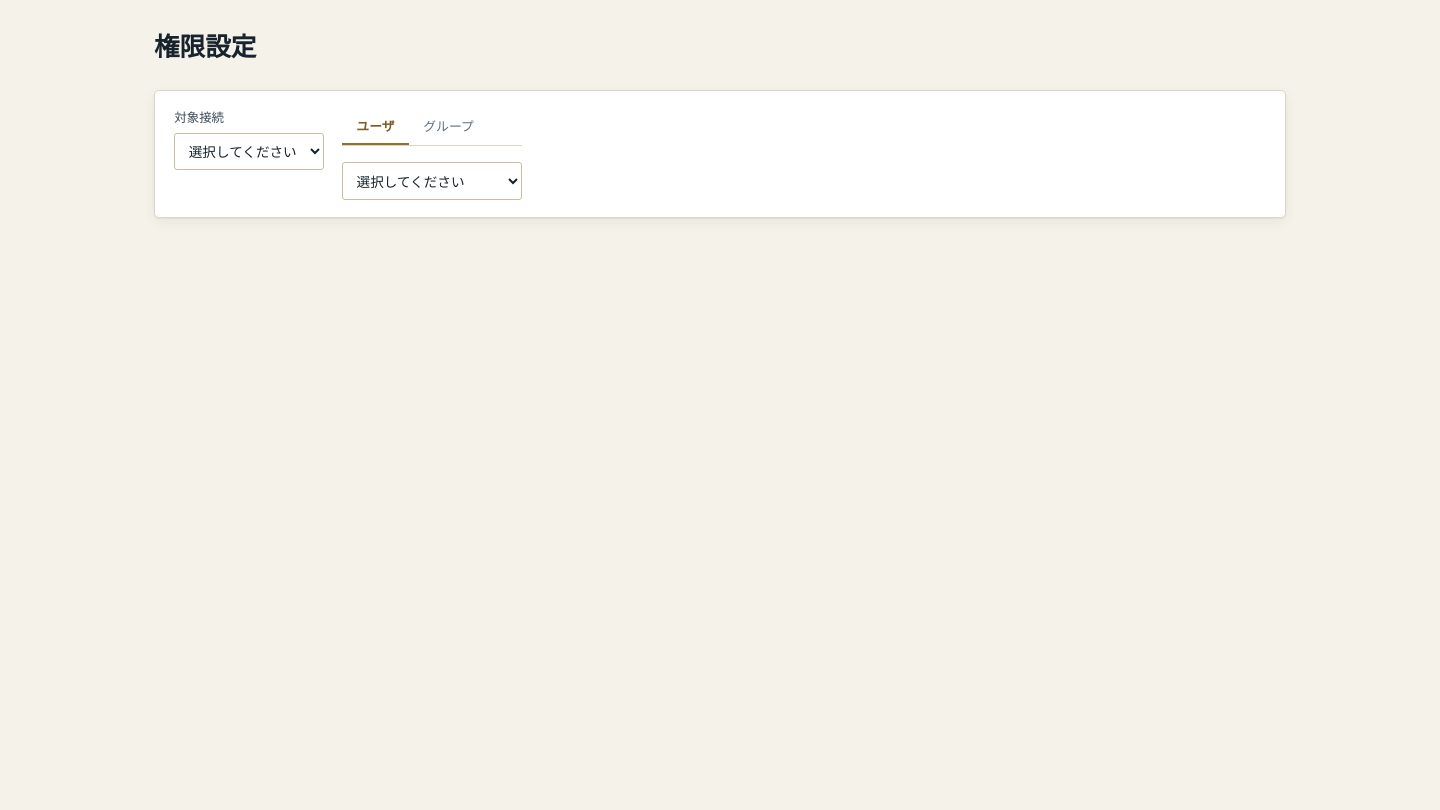
Test: PermissionAssignmentPage › hides the form again when switching to a different connection
Step 1. Select "conn-1" in the dropdown with test id "connection-selector-select" → (249, 152), box [174, 133, 324, 170]
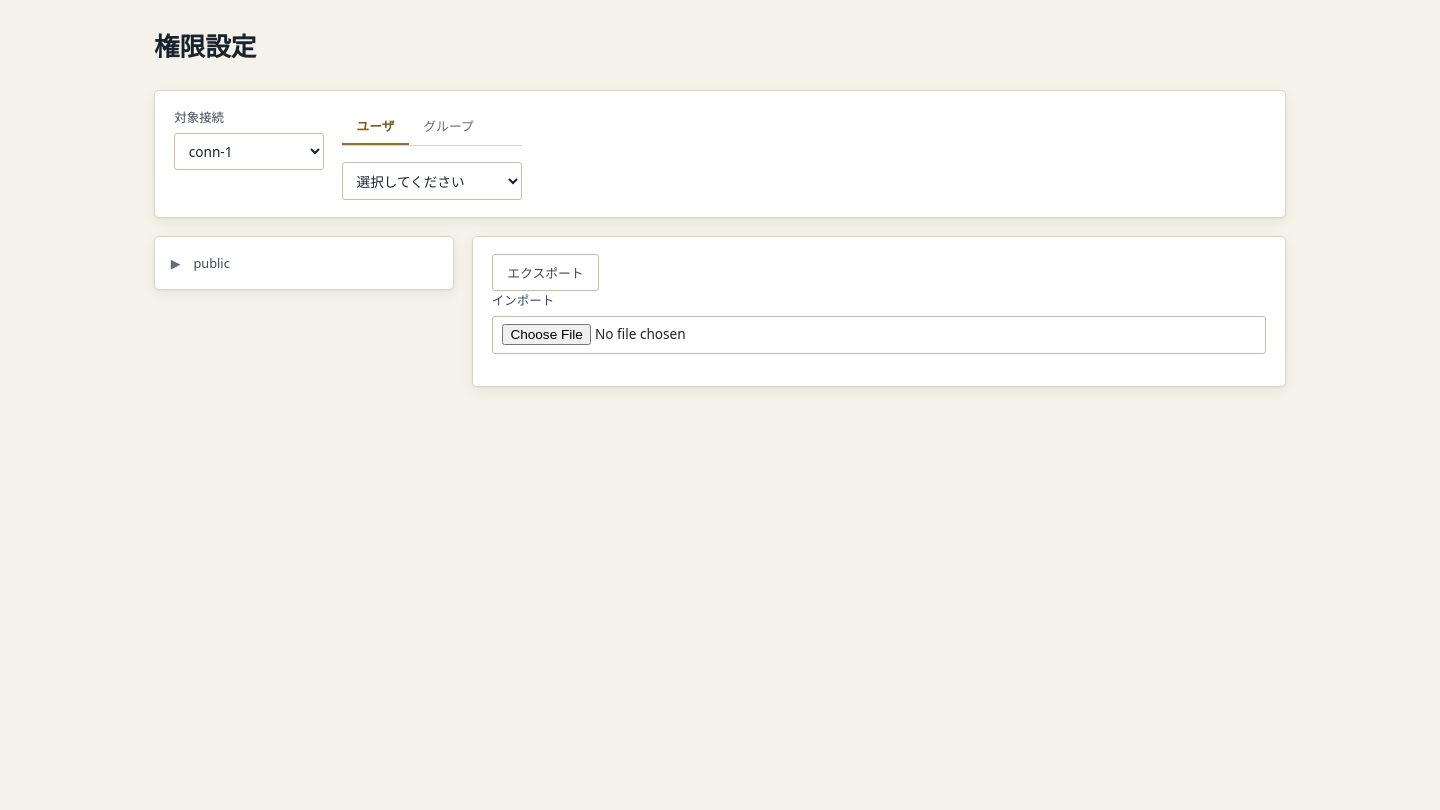
Check: the list with test id "permission-tree" is shown, box [154, 236, 454, 290]
Check: the button "public" is shown, box [187, 250, 236, 277]
Step 2. Select "user-7@example.com" in the dropdown with test id "principal-selector-user-select" → (432, 181), box [342, 162, 522, 200]
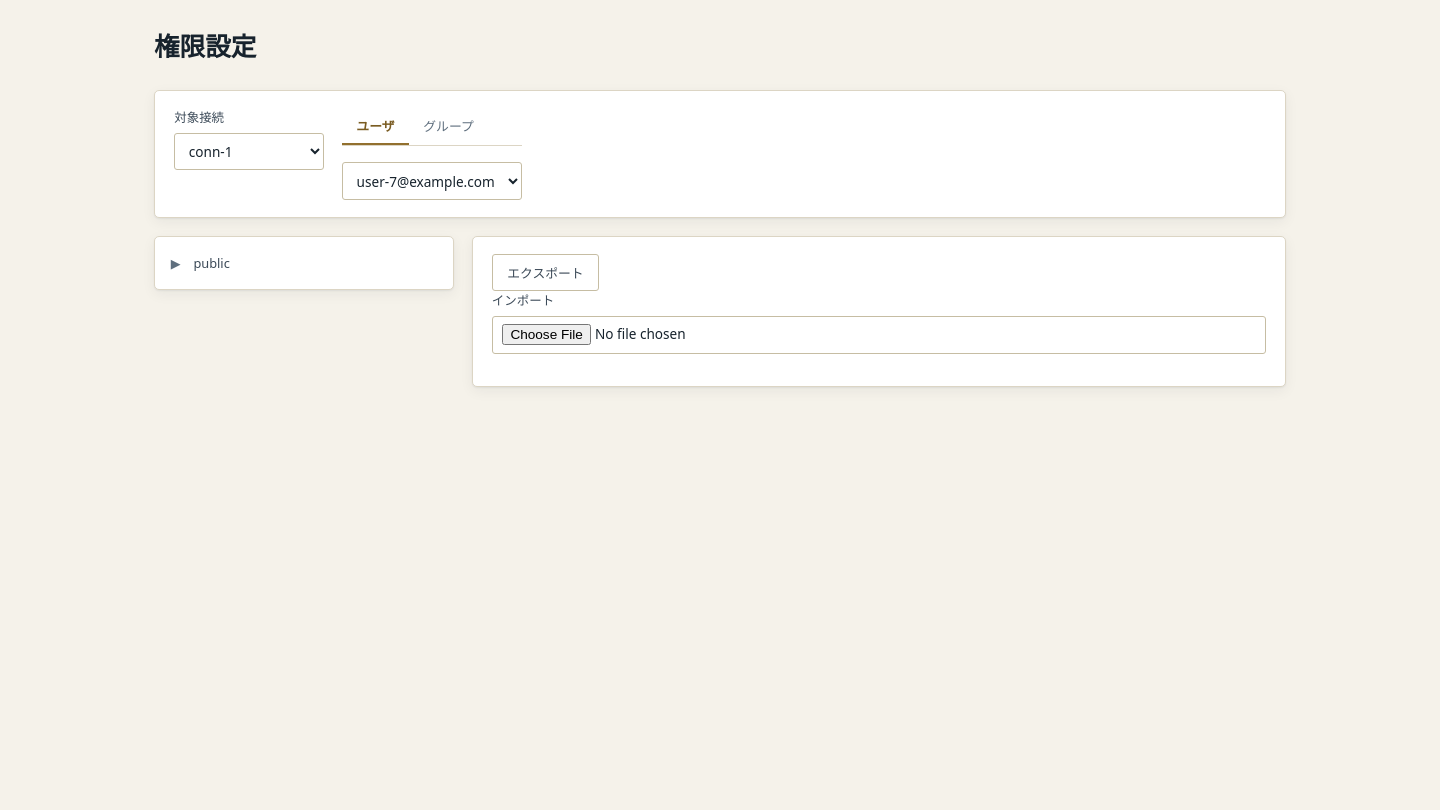
Step 3. Click the button with test id "permission-tree-schema-select" → (212, 263), box [187, 250, 236, 277]
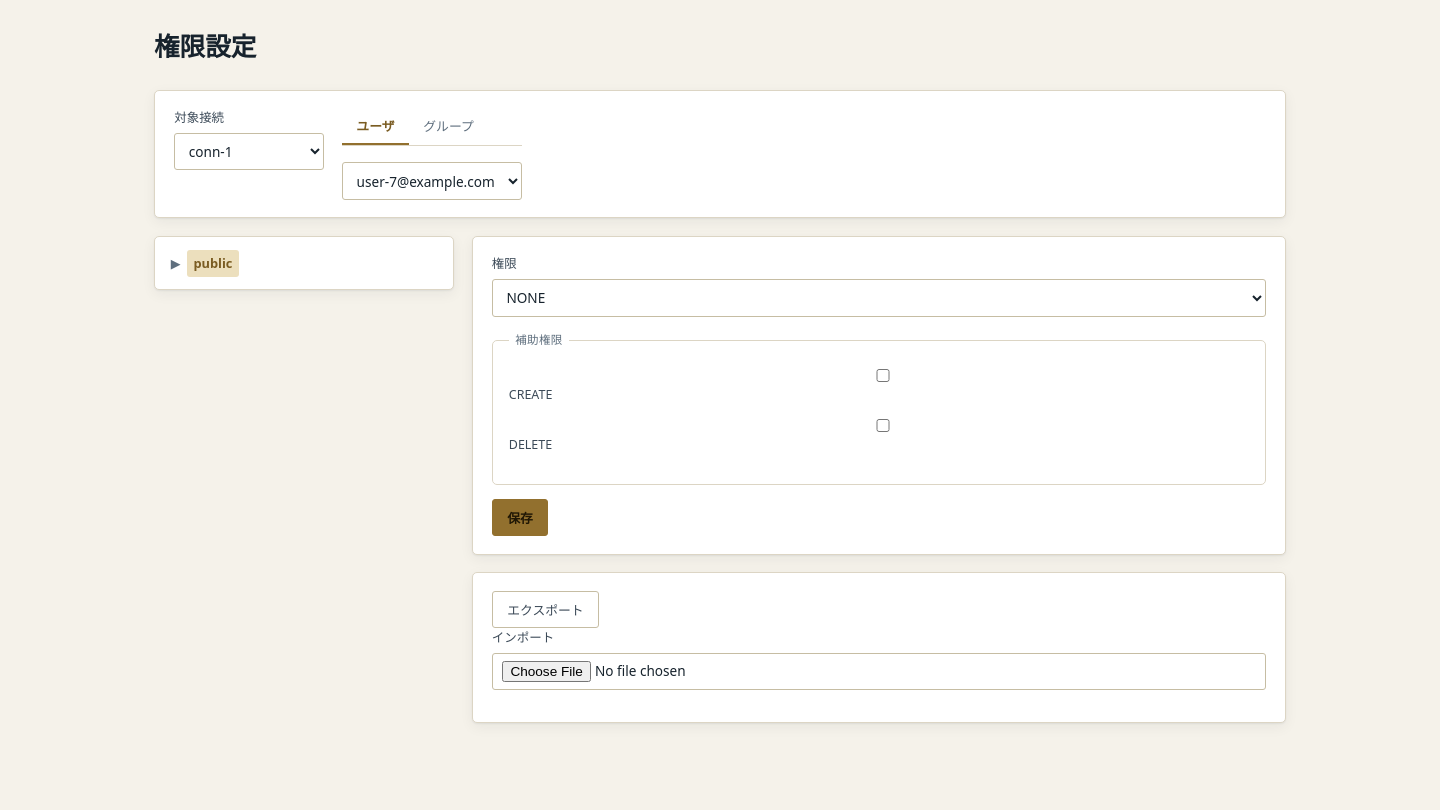
Check: the form with test id "permission-form" is shown, box [472, 236, 1286, 555]
Step 4. Select "conn-2" in the dropdown with test id "connection-selector-select" → (249, 152), box [174, 133, 324, 170]
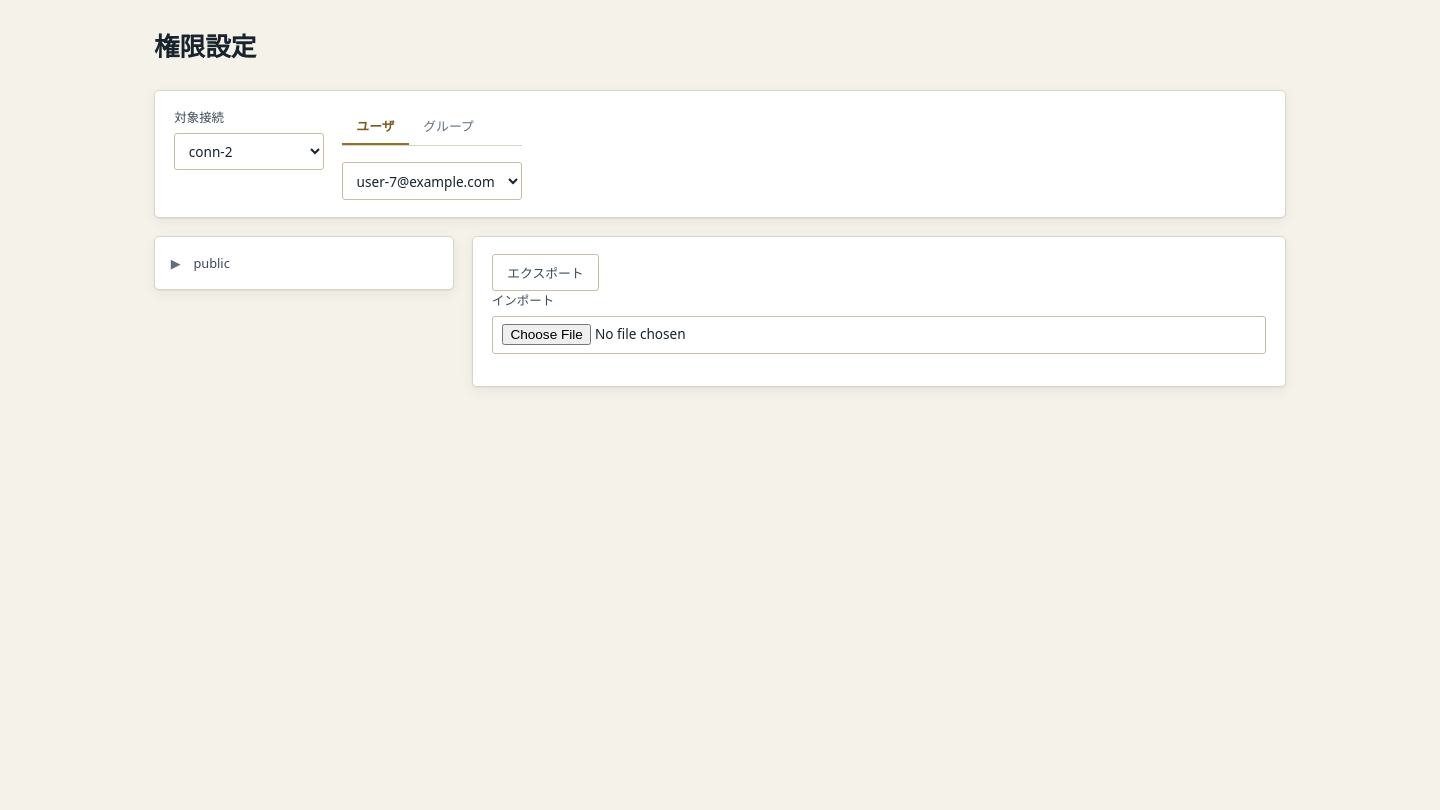
Check: the form with test id "permission-form" is gone
